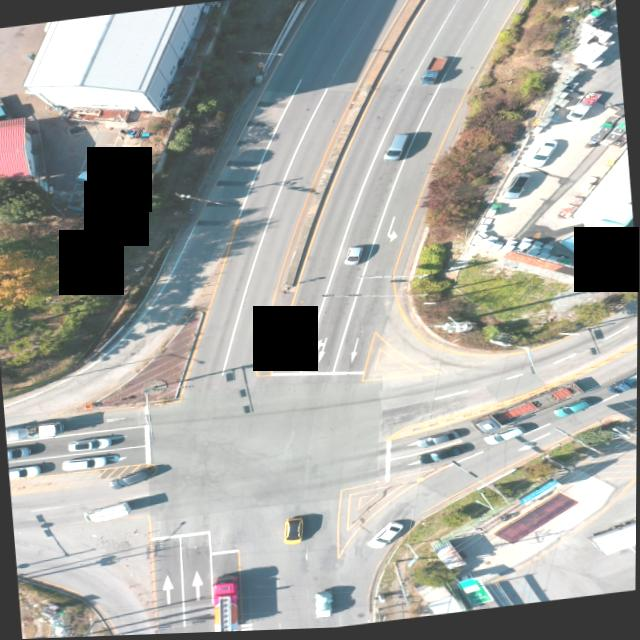car: (418, 447, 473, 468), (524, 145, 562, 173), (369, 522, 408, 549), (112, 470, 159, 492), (76, 169, 118, 193), (383, 133, 415, 162), (485, 428, 528, 448), (62, 456, 109, 473), (416, 433, 463, 450), (503, 176, 533, 202), (70, 436, 113, 453), (553, 403, 591, 421), (284, 517, 306, 546), (343, 246, 366, 268), (9, 465, 42, 480), (7, 445, 32, 460)
medium_truck: (471, 382, 586, 440), (587, 518, 637, 560), (213, 577, 245, 634), (6, 422, 60, 445)
small_truck: (564, 93, 606, 127), (559, 236, 601, 265), (416, 57, 450, 88), (86, 503, 133, 523), (607, 374, 638, 399), (315, 591, 338, 621), (0, 92, 10, 118)
